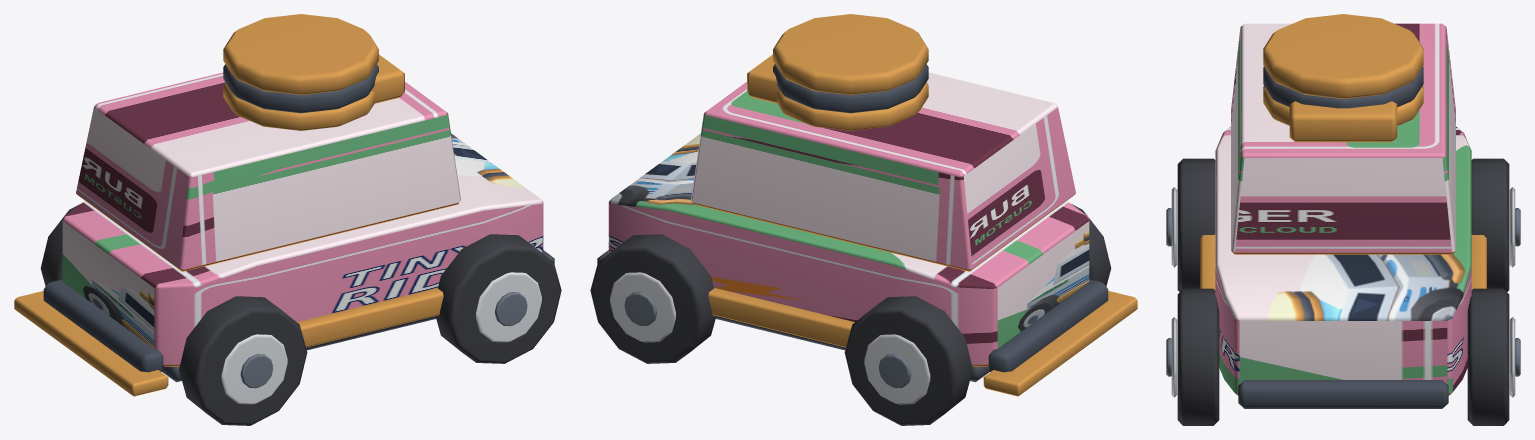
3 views of the same model, side by side, from view 1: azimuth 30°, elevation 25°; view 2: azimuth 150°, elevation 25°; view 3: azimuth 270°, elevation 25° (orthographic). The views are drawn at different scales.
Parts seen in each view (by area): view 1: SS-03_cabin, SS-03_connected_shell, burger layer.002, Tire, Tire.002, custom chin, custom side guard, front bumper, burger layer.001, Rim, Rim.002, burger layer (+5 smaller); view 2: SS-03_cabin, SS-03_connected_shell, burger layer.002, Tire.001, Tire.003, custom chin, custom side guard.001, front bumper, burger layer.001, Rim.001, Rim.003, burger layer (+5 smaller); view 3: SS-03_connected_shell, SS-03_cabin, burger layer.002, rear bumper, Tire.002, Tire.003, Tire, Tire.001, custom equipment, burger layer.001, burger layer, custom side guard (+5 smaller).
Boxes of the visible parts, x1,y1,x2,y2 form: SS-03_cabin: [76, 72, 460, 271]; SS-03_connected_shell: [62, 133, 543, 366]; burger layer.002: [223, 14, 378, 95]; Tire: [179, 296, 307, 425]; Tire.002: [435, 234, 561, 363]; custom chin: [14, 291, 168, 396]; custom side guard: [297, 288, 443, 347]; front bumper: [43, 279, 163, 372]; burger layer.001: [223, 64, 378, 113]; Rim: [221, 334, 287, 404]; Rim.002: [476, 272, 541, 342]; burger layer: [223, 82, 374, 130]; SS-03_cabin: [691, 72, 1075, 271]; SS-03_connected_shell: [608, 133, 1089, 366]; burger layer.002: [773, 14, 928, 95]; Tire.001: [844, 296, 972, 425]; Tire.003: [590, 234, 716, 363]; custom chin: [983, 291, 1137, 396]; custom side guard.001: [708, 288, 854, 347]; front bumper: [988, 279, 1108, 372]; burger layer.001: [773, 64, 928, 113]; Rim.001: [864, 334, 930, 404]; Rim.003: [610, 272, 675, 342]; burger layer: [777, 82, 928, 130]; SS-03_connected_shell: [1215, 126, 1471, 395]; SS-03_cabin: [1231, 23, 1455, 254]; burger layer.002: [1263, 14, 1423, 98]; rear bumper: [1238, 380, 1448, 408]; Tire.002: [1177, 288, 1219, 425]; Tire.003: [1467, 288, 1509, 425]; Tire: [1177, 158, 1215, 291]; Tire.001: [1471, 158, 1509, 291]; custom equipment: [1289, 101, 1397, 142]; burger layer.001: [1263, 67, 1423, 108]; burger layer: [1263, 85, 1423, 125]; custom side guard: [1200, 234, 1215, 289].
Size of the model in its own units: 328 by 213 by 221.
